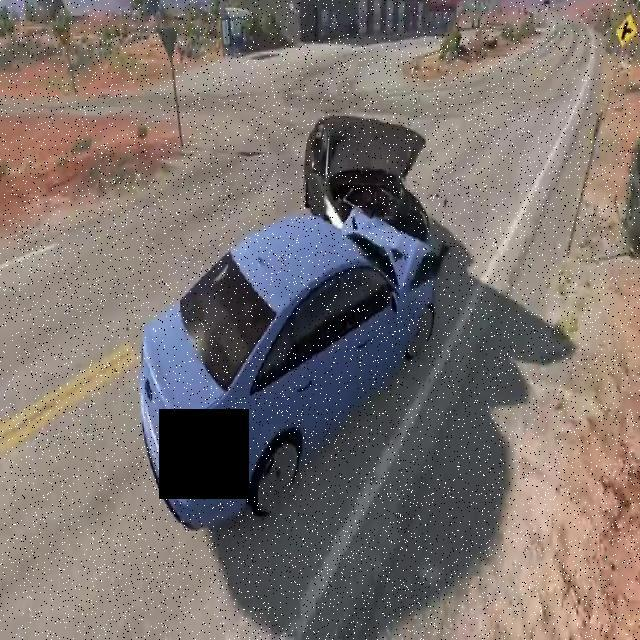moderate: (130, 89, 450, 532)
